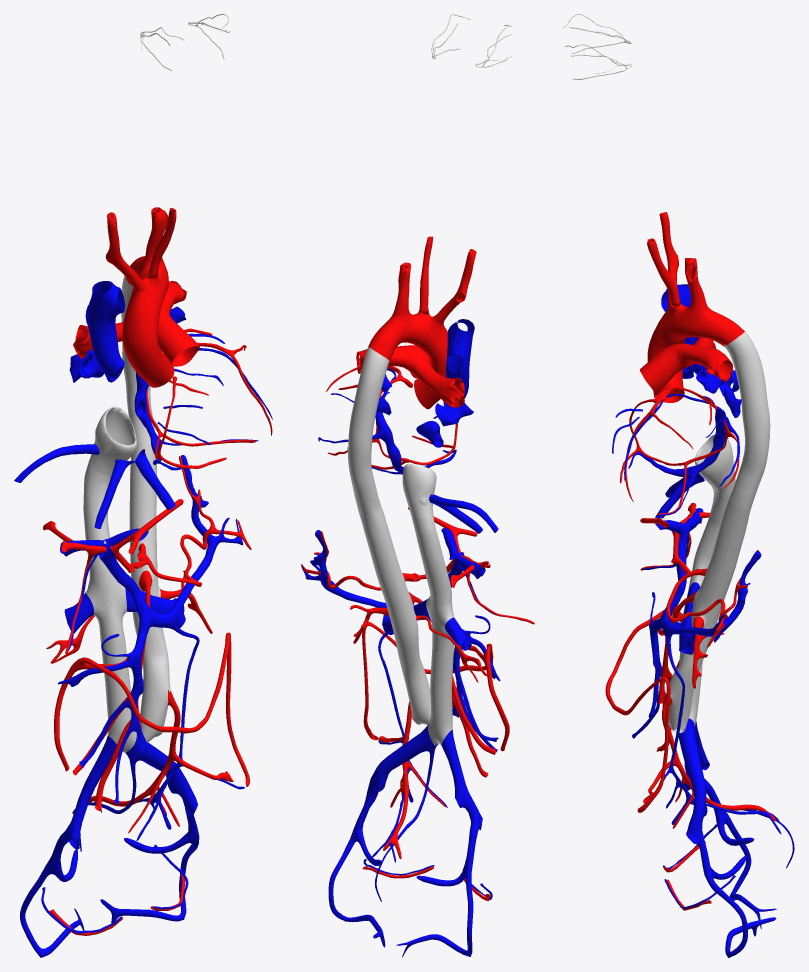
The model's file is vh_f_blood_vasculature-20.fbx.
The picture shows the model from 3 angles, left to right: view 1: azimuth 30°, elevation 25°; view 2: azimuth 150°, elevation 25°; view 3: azimuth 270°, elevation 25°; orthographic projection. The views are drawn at different scales.
Parts seen in each view (by area): view 1: VH_F_inferior_vena_cava_b, VH_F_descending_aorta_b, VH_F_superior_vena_cava, VH_F_marginal_artery_of_Drummond, VH_F_ascending_aorta, VH_F_inferior_vena_cava_a, VH_F_splenic_vein, VH_F_aortic_arch, VH_F_left_common_iliac_vein, VH_F_pulmonary_trunk, VH_F_right_common_iliac_vein, VH_F_descending_aorta_a (+15 smaller); view 2: VH_F_descending_aorta_b, VH_F_inferior_vena_cava_b, VH_F_descending_aorta_a, VH_F_aortic_arch, VH_F_inferior_vena_cava_a, VH_F_superior_vena_cava, VH_F_left_common_iliac_vein, VH_F_marginal_artery_of_Drummond, VH_F_pulmonary_artery_R, VH_F_right_common_iliac_vein, VH_F_splenic_vein, VH_F_ascending_aorta (+6 smaller); view 3: VH_F_descending_aorta_b, VH_F_descending_aorta_a, VH_F_aortic_arch, VH_F_inferior_vena_cava_b, VH_F_left_common_iliac_vein, VH_F_marginal_artery_of_Drummond, VH_F_splenic_vein, VH_F_pulmonary_artery_L, VH_F_inferior_vena_cava_a, VH_F_pulmonary_trunk, VH_F_ascending_aorta, VH_F_splenic_artery (+11 smaller).
Part boxes in pixels (left/top/right/bottom): VH_F_inferior_vena_cava_b: left=83, top=463, right=136, bottom=752; VH_F_descending_aorta_b: left=129, top=443, right=170, bottom=742; VH_F_superior_vena_cava: left=85, top=281, right=125, bottom=382; VH_F_marginal_artery_of_Drummond: left=54, top=632, right=249, bottom=786; VH_F_ascending_aorta: left=122, top=312, right=174, bottom=387; VH_F_inferior_vena_cava_a: left=88, top=406, right=137, bottom=476; VH_F_splenic_vein: left=140, top=455, right=243, bottom=629; VH_F_aortic_arch: left=125, top=256, right=168, bottom=315; VH_F_left_common_iliac_vein: left=125, top=733, right=197, bottom=815; VH_F_pulmonary_trunk: left=158, top=309, right=199, bottom=366; VH_F_right_common_iliac_vein: left=64, top=736, right=116, bottom=849; VH_F_descending_aorta_a: left=121, top=276, right=154, bottom=444; VH_F_descending_aorta_b: left=359, top=504, right=430, bottom=725; VH_F_inferior_vena_cava_b: left=412, top=516, right=454, bottom=745; VH_F_descending_aorta_a: left=348, top=347, right=389, bottom=514; VH_F_aortic_arch: left=368, top=312, right=447, bottom=360; VH_F_inferior_vena_cava_a: left=402, top=463, right=436, bottom=517; VH_F_superior_vena_cava: left=443, top=319, right=474, bottom=406; VH_F_left_common_iliac_vein: left=364, top=724, right=434, bottom=805; VH_F_marginal_artery_of_Drummond: left=362, top=622, right=509, bottom=751; VH_F_pulmonary_artery_R: left=414, top=357, right=464, bottom=407; VH_F_right_common_iliac_vein: left=441, top=729, right=482, bottom=830; VH_F_splenic_vein: left=301, top=530, right=386, bottom=607; VH_F_ascending_aorta: left=414, top=347, right=447, bottom=409; VH_F_descending_aorta_b: left=666, top=497, right=751, bottom=732; VH_F_descending_aorta_a: left=724, top=332, right=770, bottom=509; VH_F_aortic_arch: left=657, top=304, right=744, bottom=346; VH_F_inferior_vena_cava_b: left=679, top=478, right=735, bottom=726; VH_F_left_common_iliac_vein: left=678, top=718, right=707, bottom=843; VH_F_marginal_artery_of_Drummond: left=605, top=610, right=682, bottom=812; VH_F_splenic_vein: left=660, top=551, right=761, bottom=642; VH_F_pulmonary_artery_L: left=676, top=343, right=732, bottom=381; VH_F_inferior_vena_cava_a: left=695, top=434, right=735, bottom=492; VH_F_pulmonary_trunk: left=640, top=343, right=694, bottom=394; VH_F_ascending_aorta: left=647, top=323, right=685, bottom=402; VH_F_splenic_artery: left=666, top=549, right=758, bottom=647.
Size of the model in its own units: 19.27 by 79.89 by 18.48.
